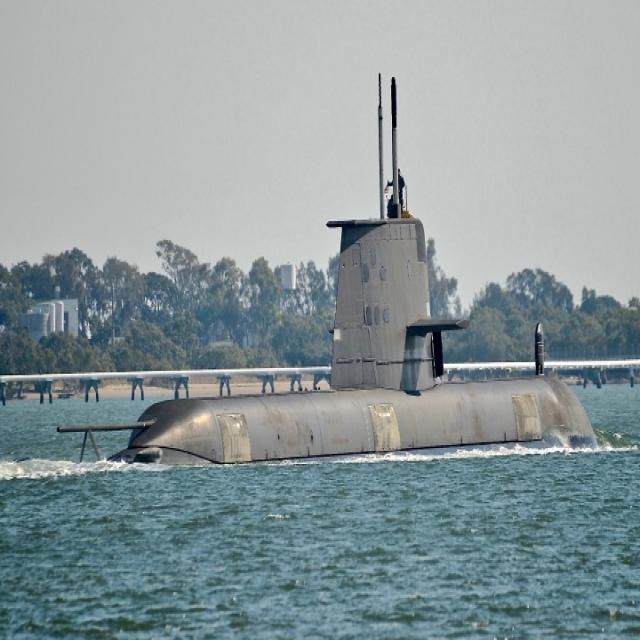submarine: (53, 80, 601, 480)
